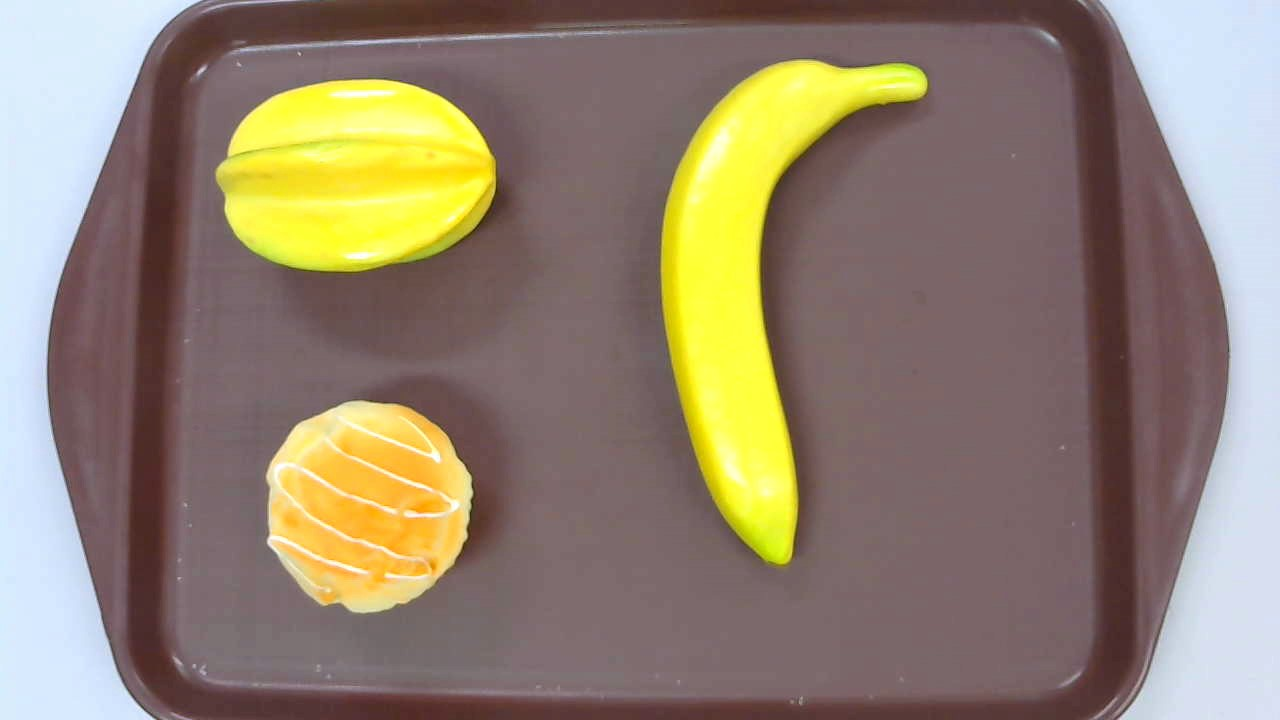banana: (659, 59, 928, 566)
cupcake: (266, 401, 474, 613)
star fruit: (213, 77, 496, 274)
